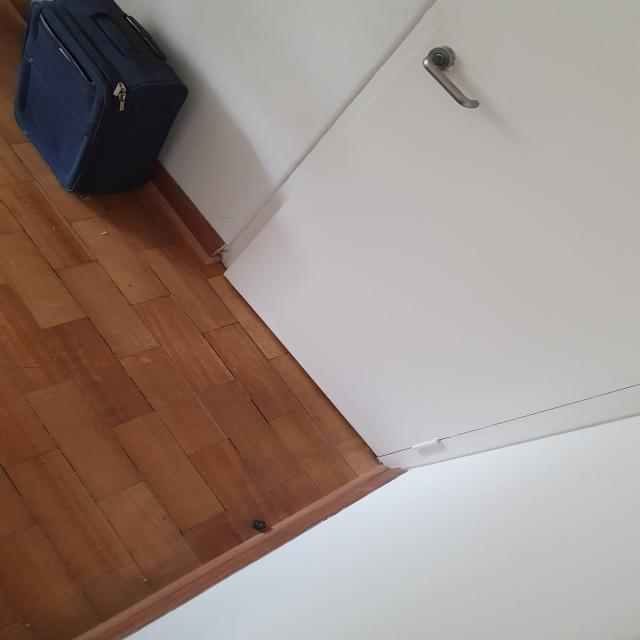Suitcase: (13, 3, 191, 199)
